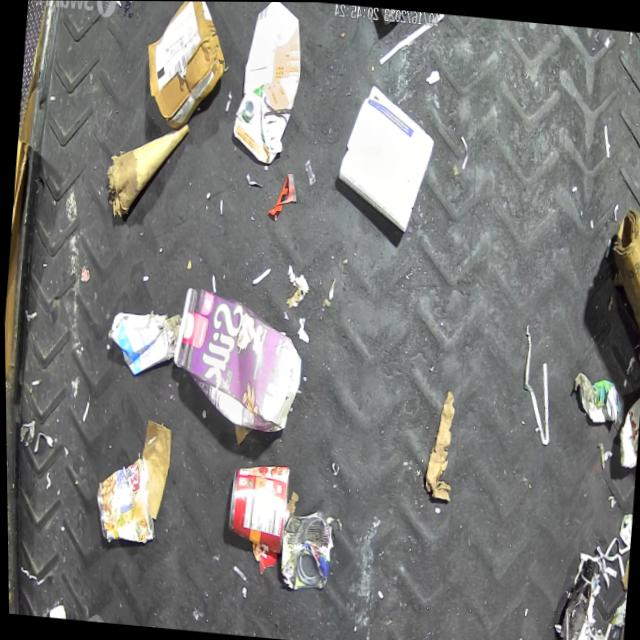can: (222, 457, 290, 552), (89, 452, 159, 544), (274, 504, 335, 592), (615, 384, 640, 470)
non_white_jug: (165, 284, 305, 437), (226, 1, 305, 163)
